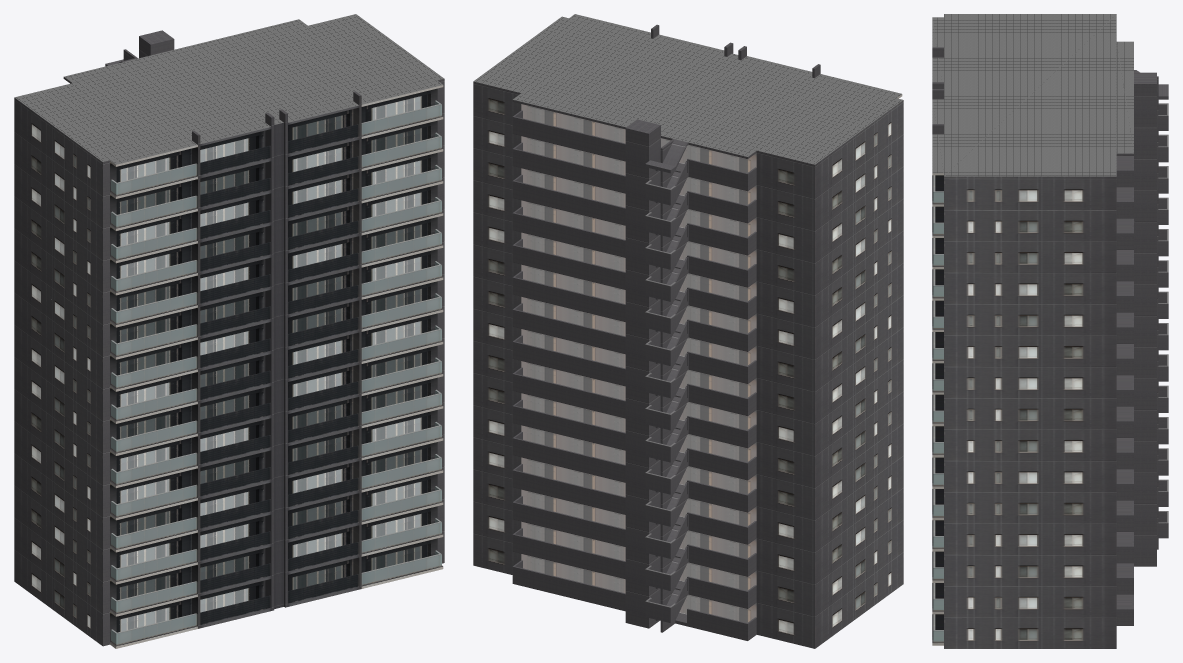
3 renders of one model, left to right at view 1: azimuth 30°, elevation 25°; view 2: azimuth 150°, elevation 25°; view 3: azimuth 270°, elevation 25°, orthographic. The views are drawn at different scales.
Visible parts, largest first — view 1: 屋上, 15F, 3F, 7F, 11F, 5F, 12F, 13F, 14F, 9F, 4F, 10F (+5 smaller); view 2: 屋上, 3F, 2F, 9F, 10F, 11F, 14F, 12F, 7F, 13F, 4F, 5F (+7 smaller); view 3: 屋上, 14F, 8F, 13F, 2F, 3F, 5F, 6F, 9F, 12F, 4F, 7F (+7 smaller).
Part boxes in pixels (x1,y1,x2,y2): 屋上: (14,14,444,166); 15F: (14,49,444,198); 3F: (14,466,444,584); 7F: (14,338,444,455); 11F: (14,209,444,327); 5F: (14,402,444,520); 12F: (14,177,444,295); 13F: (14,145,444,263); 14F: (14,113,444,230); 9F: (14,274,444,391); 4F: (14,434,444,552); 10F: (14,241,444,359); 屋上: (473,14,903,173); 3F: (473,469,903,584); 2F: (473,501,903,616); 9F: (473,276,903,391); 10F: (473,244,903,359); 11F: (473,212,903,327); 14F: (473,116,903,230); 12F: (473,180,903,295); 7F: (473,340,903,455); 13F: (473,148,903,263); 4F: (473,437,903,552); 5F: (473,405,903,520); 屋上: (932,14,1168,178); 14F: (932,103,1168,241); 8F: (932,291,1168,429); 13F: (932,134,1168,272); 2F: (932,479,1168,617); 3F: (932,448,1168,586); 5F: (932,385,1168,523); 6F: (932,354,1168,492); 9F: (932,260,1168,398); 12F: (932,166,1168,304); 4F: (932,417,1168,554); 7F: (932,323,1168,460).
Size of the model in its own units: 33.4 by 46.2 by 20.5.
20 materials, 20 textured.
